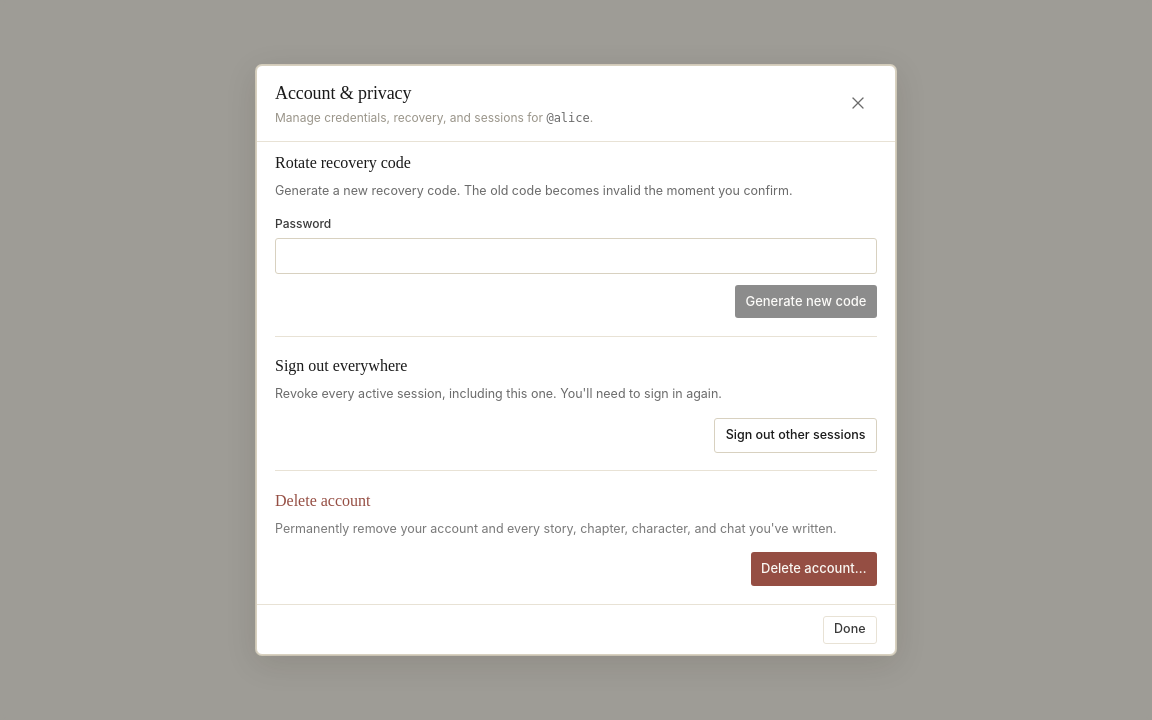
Test: <AccountPrivacyModal> › [X3] delete-account takeover › 401 wrong-password surfaces inline error and stays in takeover with values preserved
This screenshot has width=1152, height=720.
(page scrolled)
Click the button "Delete account…". click: (814, 569)
box: [750,552,877,586]
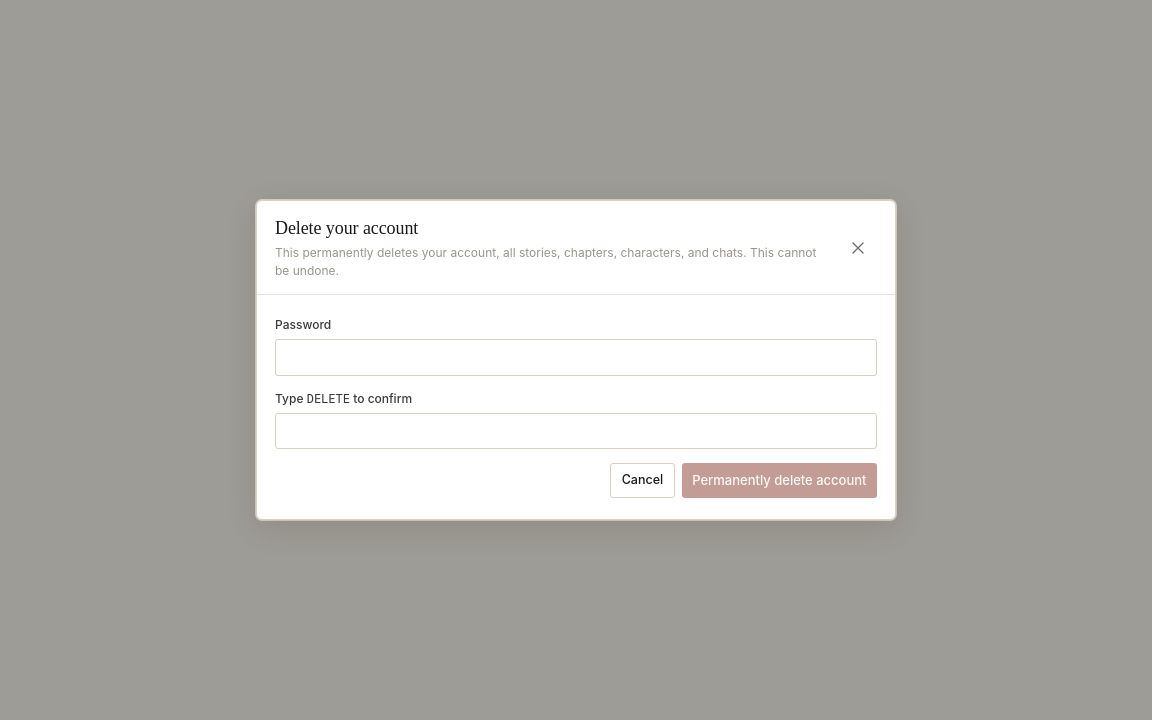
Type "wrong" into the password field with test id "delete-account-password". click: (576, 358)
box: [275,339,877,376]
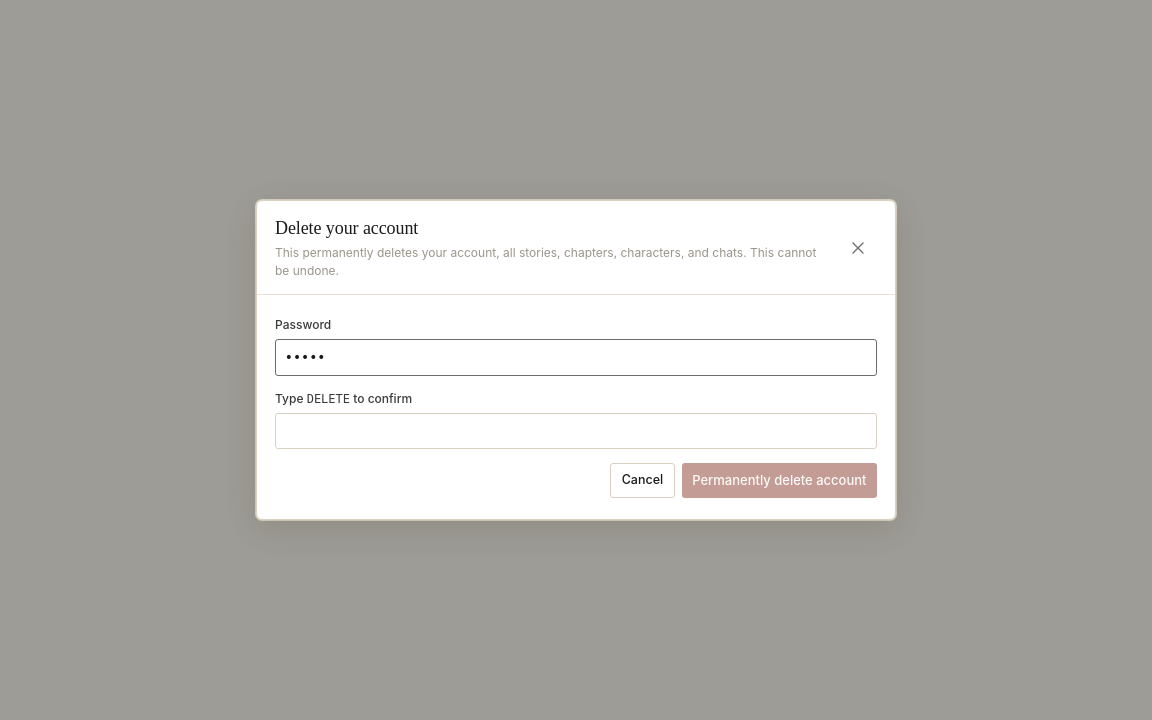
Type "DELETE" into the field with test id "delete-account-confirm-text". click: (576, 431)
box: [275,413,877,449]
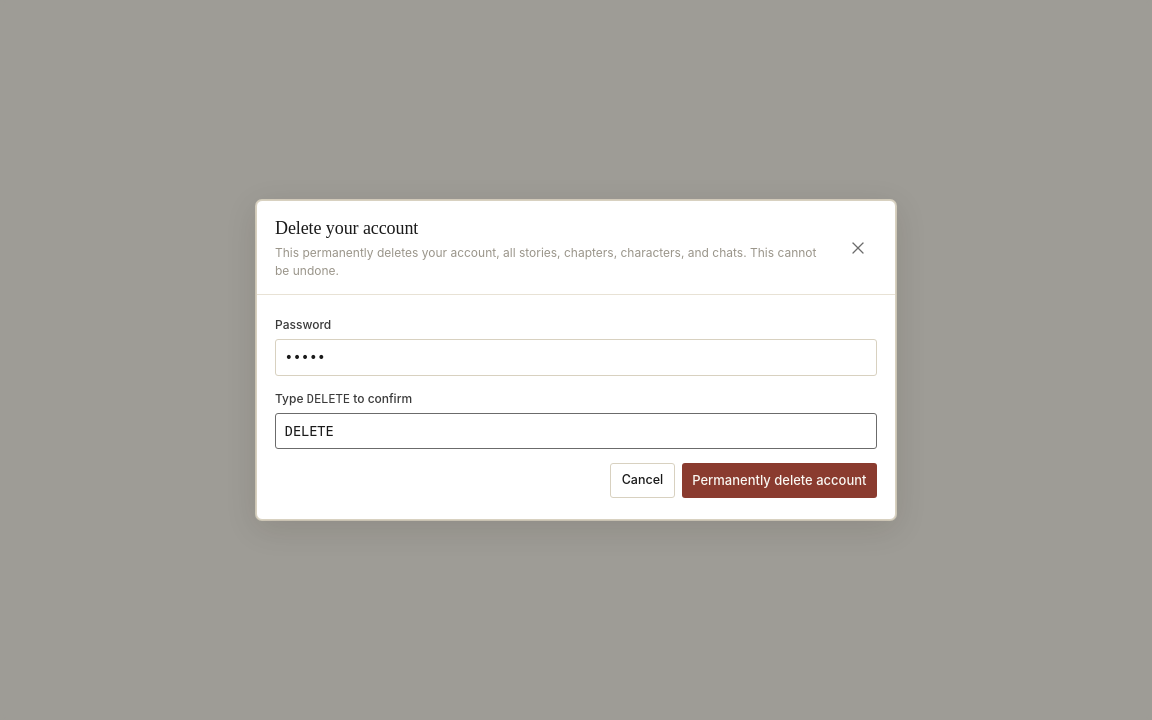
Click the button with test id "delete-account-confirm". click: (779, 480)
box: [682,463,877,498]
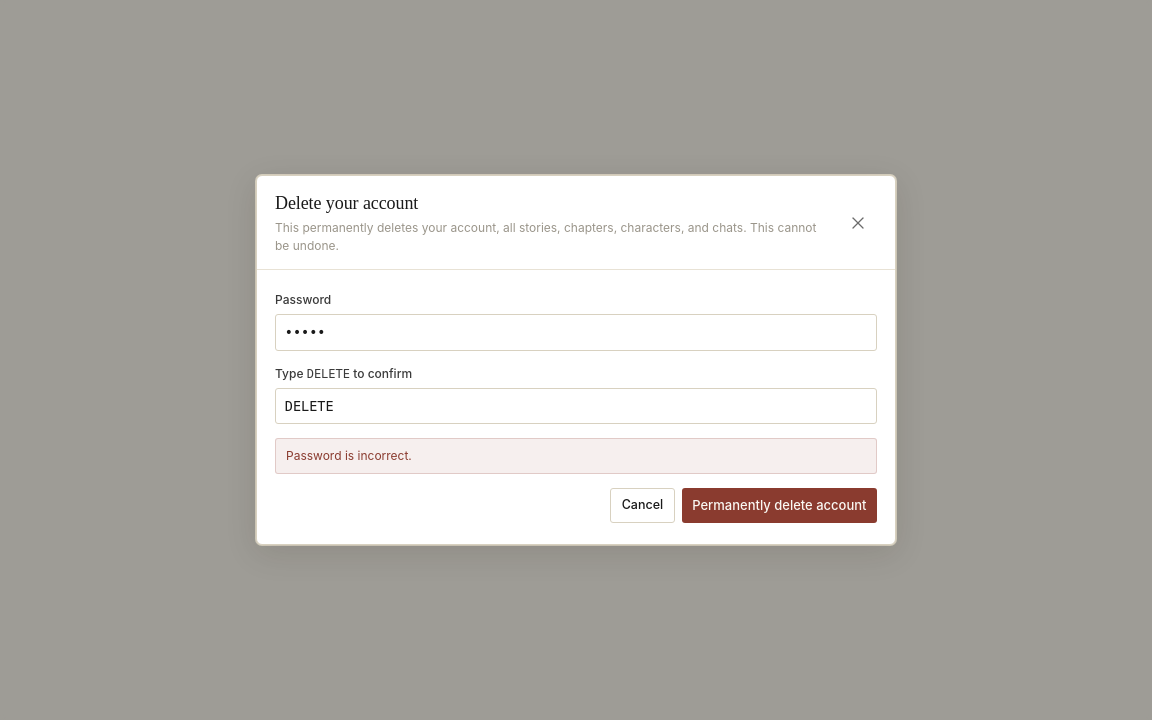
Check: the heading "Delete your account" is shown, box [275,193,418,213]
Check: the message shows "Password is incorrect", box [286,448,412,463]
